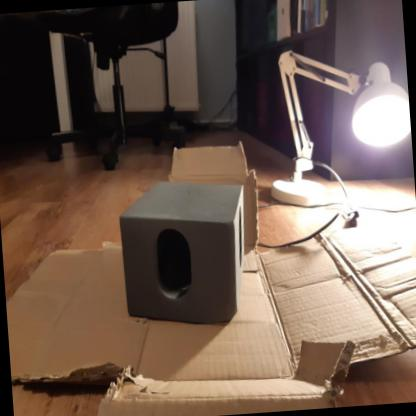CornerCasting: (113, 171, 257, 338)
